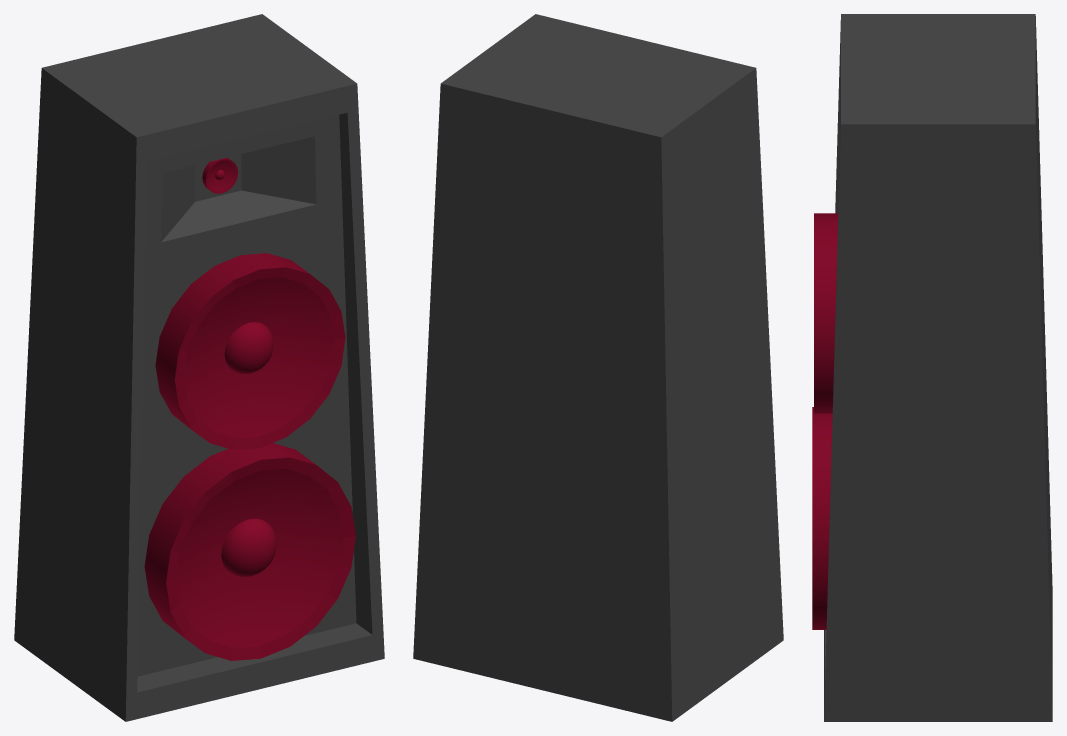
File: Speaker.fbx
The picture shows the model from 3 angles, left to right: view 1: azimuth 30°, elevation 25°; view 2: azimuth 150°, elevation 25°; view 3: azimuth 270°, elevation 25°; orthographic projection. The views are drawn at different scales.
Visible parts, largest first — view 1: pCube1, pCylinder1, pCylinder2, pSphere1, pSphere2, pCylinder3; view 2: pCube1; view 3: pCube1, pCylinder2, pCylinder1.
Boxes of the visible parts, x1,y1,x2,y2 form: pCube1: [14, 14, 384, 721]; pCylinder1: [144, 443, 355, 660]; pCylinder2: [155, 253, 345, 449]; pSphere1: [221, 518, 276, 576]; pSphere2: [224, 322, 273, 373]; pCylinder3: [202, 157, 238, 193]; pCube1: [413, 14, 783, 721]; pCube1: [824, 14, 1052, 721]; pCylinder2: [814, 213, 838, 413]; pCylinder1: [812, 407, 832, 629].
Bounding box in the file's own units: 13.72 × 29.04 × 10.76.
